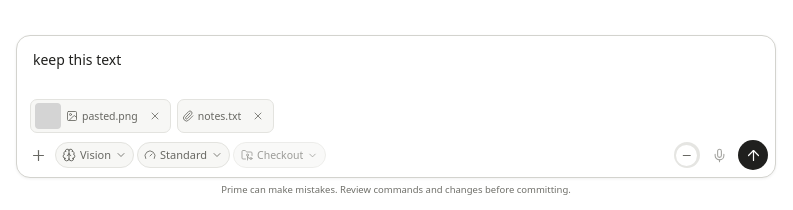
Scenario: Composer image ingestion › stages mixed file types and rejects unsupported files when sending
Expected: the number of elements with class "composer-attachment" is 2, [30,99,171,133]; [177,99,274,133]
What coordinates should you click on to do the following:
click the button named "Send message"
I would click on:
 (753, 155)
Its box is [738,140,768,170].
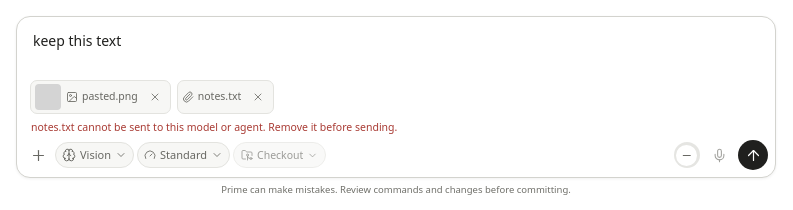
Expected: the dropdown named "Message Prime" holds "keep this text", [24,24,768,79]
Result: the message "notes.txt cannot be sent to this model or agent. Remove it before sending." is shown at [31,120,397,134]
